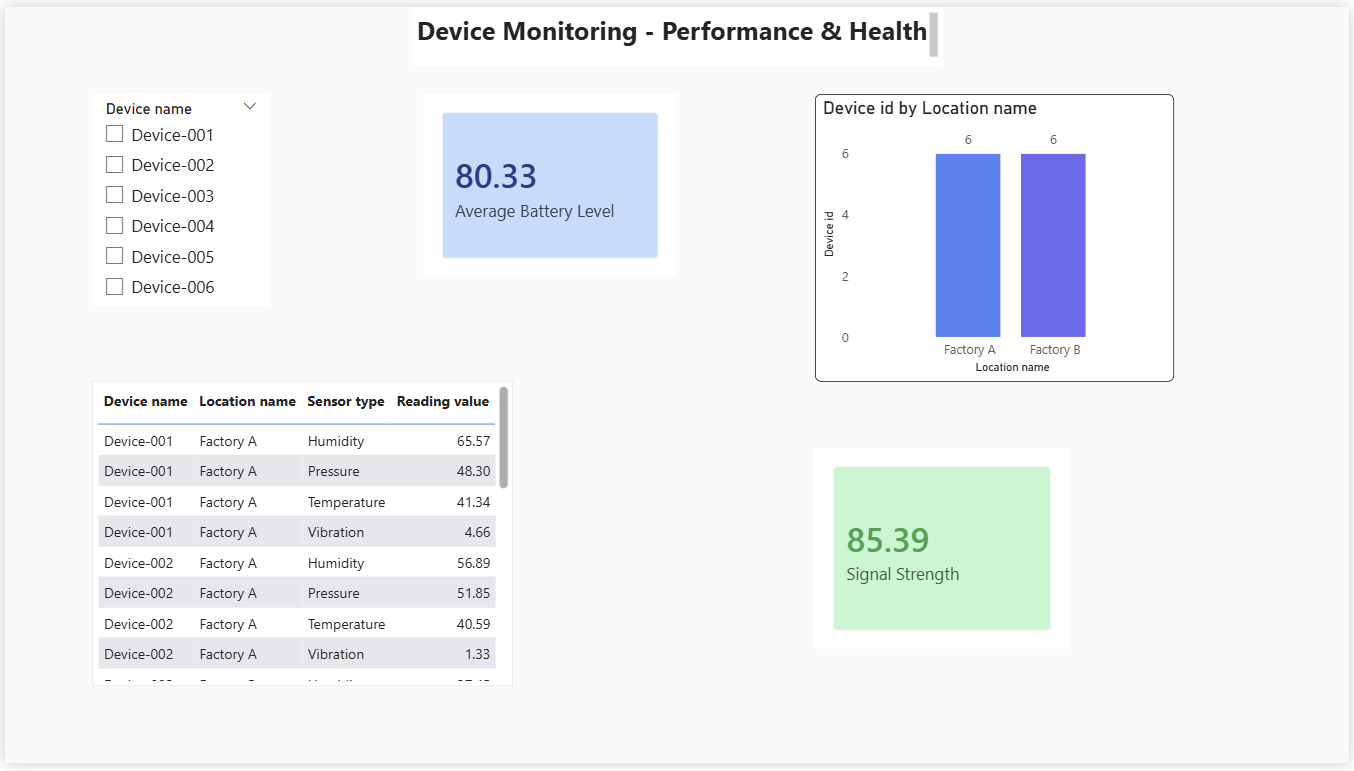

What the dashboard file says about the page in this screenshot:
{"tool":"powerbi","page":{"name":"Device Monitoring","canvas":[1280,720],"ordinal":1},"visuals":[{"type":"tableEx","fields":{"Values":["public vw_latest_sensor_readings.device_name","public vw_latest_sensor_readings.location_name","public vw_latest_sensor_readings.sensor_type","public vw_latest_sensor_readings.reading_value"]},"box":[82.6,356.4,401.6,290.5],"z":0},{"type":"slicer","fields":{"Values":["public vw_device_status_summary.device_name"]},"box":[82.6,82.6,169.1,201.4],"z":1000},{"type":"cardVisual","fields":{"Data":["Avg(public vw_device_status_summary.avg_battery_level)"]},"box":[399,82.6,241.5,174.3],"z":2000},{"type":"cardVisual","fields":{"Data":["Avg(public vw_device_status_summary.avg_signal_strength)"]},"box":[772,420.1,242.4,191.5],"z":3000},{"type":"clusteredColumnChart","fields":{"Category":["public vw_device_status_summary.location_name"],"Y":["Count(public vw_device_status_summary.device_id)"]},"box":[772.1,82.6,342.2,273.7],"z":4000},{"type":"textbox","box":[386.8,0,506.3,56.1],"z":5000}]}

Visuals, with their boxes in screenshot pixels (x1, y1, x2, y2), scaled from the page's 1280x720 canvas onto the 1354x771 screenshot:
tableEx - public vw_latest_sensor_readings.device_name x public vw_latest_sensor_readings.location_name: {"x1": 87, "y1": 382, "x2": 512, "y2": 693}
slicer - public vw_device_status_summary.device_name: {"x1": 87, "y1": 88, "x2": 266, "y2": 304}
cardVisual - Avg(public vw_device_status_summary.avg_battery_level): {"x1": 422, "y1": 88, "x2": 678, "y2": 275}
cardVisual - Avg(public vw_device_status_summary.avg_signal_strength): {"x1": 817, "y1": 450, "x2": 1073, "y2": 655}
clusteredColumnChart - public vw_device_status_summary.location_name x Count(public vw_device_status_summary.device_id): {"x1": 817, "y1": 88, "x2": 1179, "y2": 382}
textbox: {"x1": 409, "y1": 0, "x2": 945, "y2": 60}
